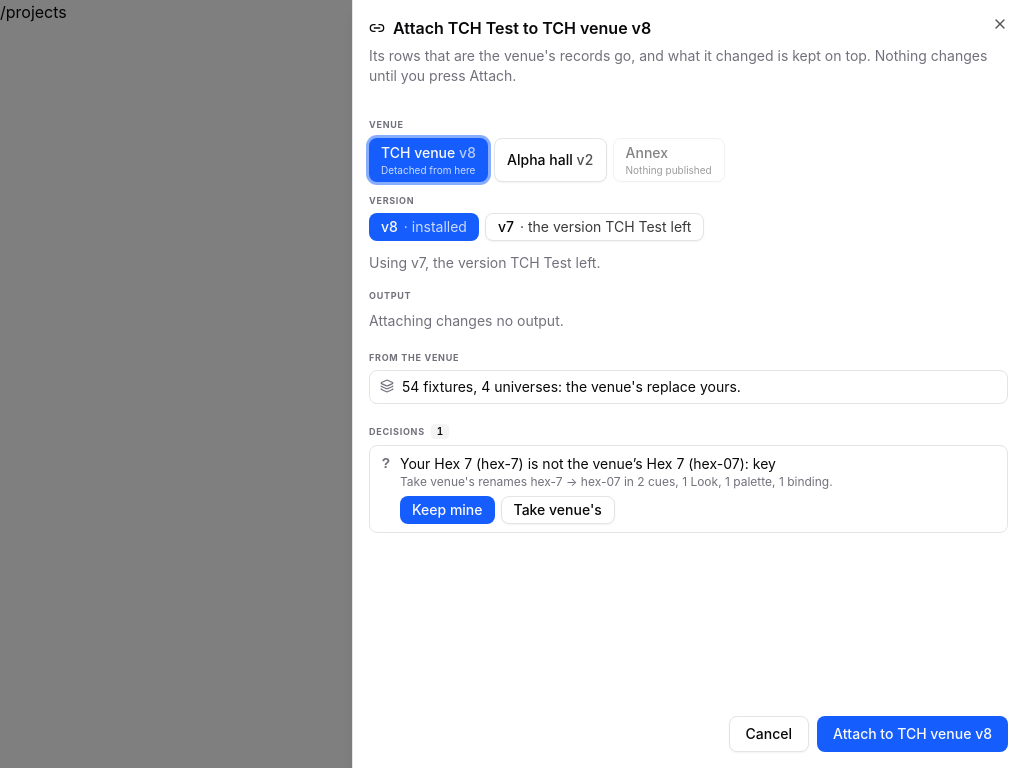
Attach is held back › while the review cannot be read with the answers given
Click the radio button labelled "Take venue's" at (558, 510), box [500,496,615,524]
Wait 300 ms
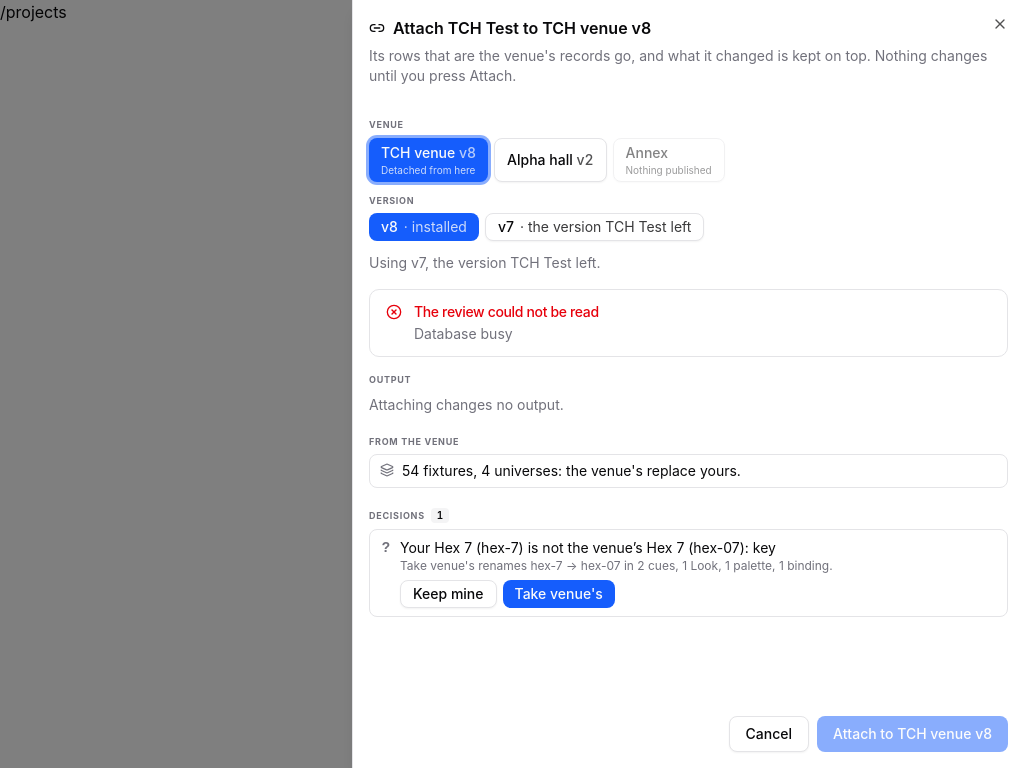
Check: the heading "The review could not be read" is shown, box [414,303,599,320]
Check: the button "Attach to TCH venue v8" is disabled, box [817,716,1008,752]
